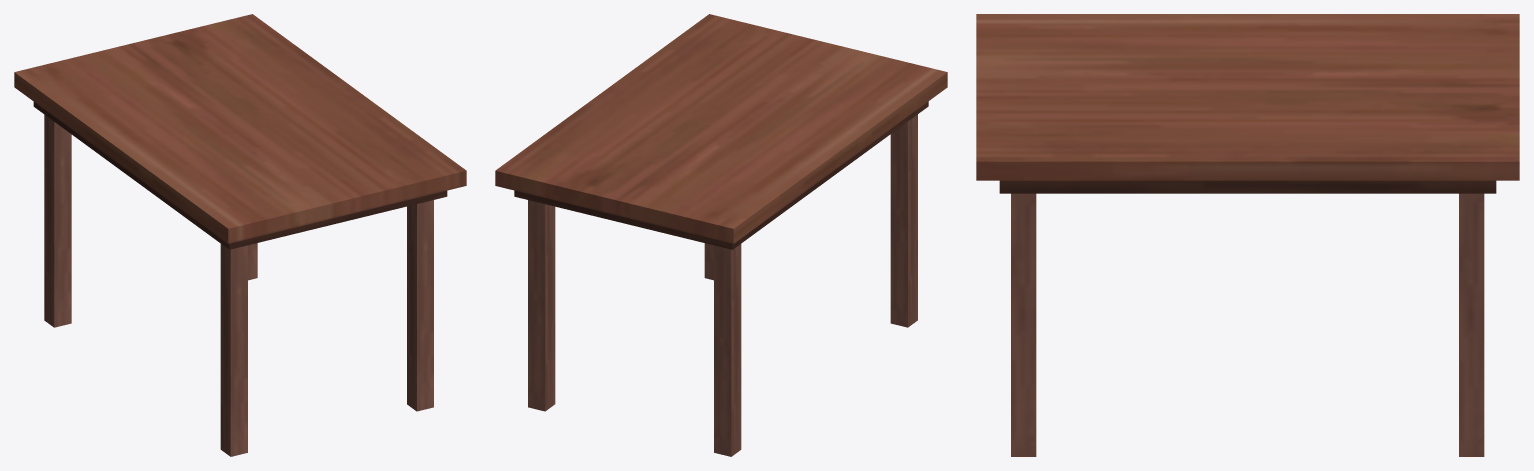
The model's file is TafelBureau.fbx.
3 views of the same model, side by side, from view 1: azimuth 30°, elevation 25°; view 2: azimuth 150°, elevation 25°; view 3: azimuth 270°, elevation 25° (orthographic). The views are drawn at different scales.
Visible parts, largest first — view 1: pCube105; view 2: pCube105; view 3: pCube105.
Part boxes in pixels (box(x1,y1,x2,y2)): pCube105: box(14, 14, 466, 456); pCube105: box(495, 14, 947, 456); pCube105: box(976, 14, 1519, 456).
Size of the model in its own units: 3.01 by 2.92 by 4.68.
